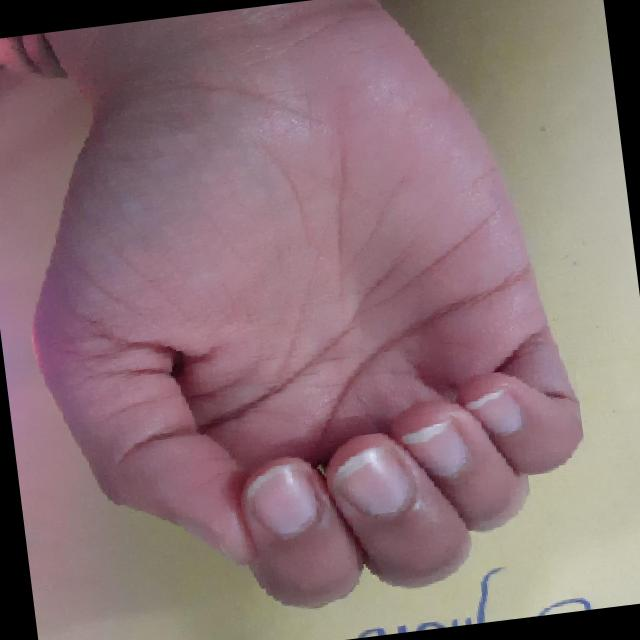Nail: (327, 444, 411, 514), (244, 462, 316, 536), (400, 419, 467, 475), (464, 387, 521, 434), (173, 519, 227, 554)
